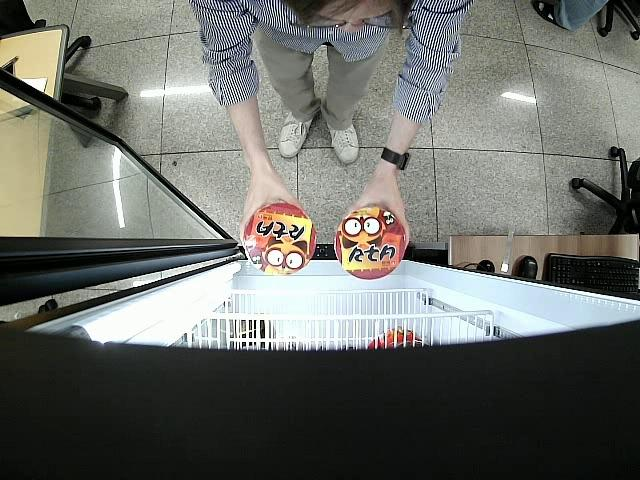00_hand: (240, 175, 305, 269), (343, 183, 410, 251)
05_nuguri_L: (243, 203, 316, 276), (332, 209, 406, 279)
